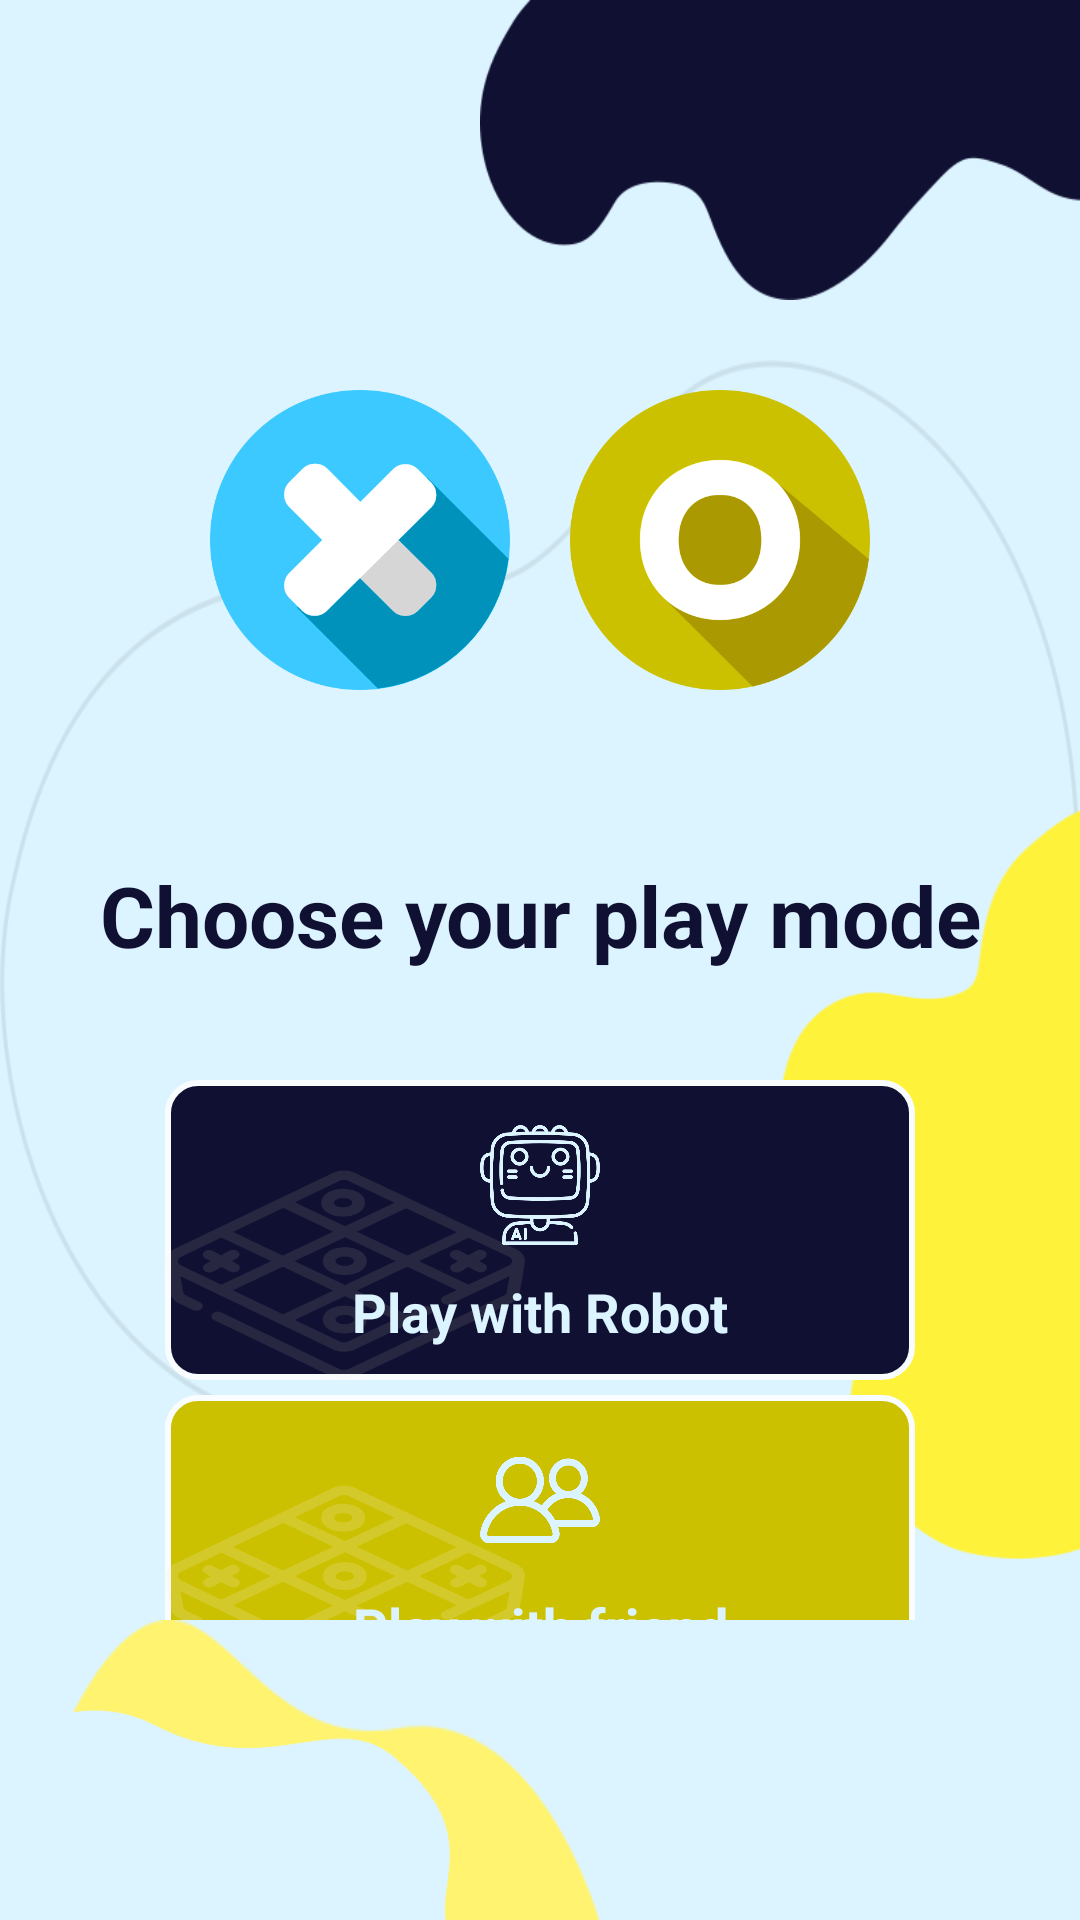

Icon bounding boxes for this 1080 × 1920 phone screenshot, format region(x1, y1, x2, y2):
friends: region(480, 1457, 600, 1543)
